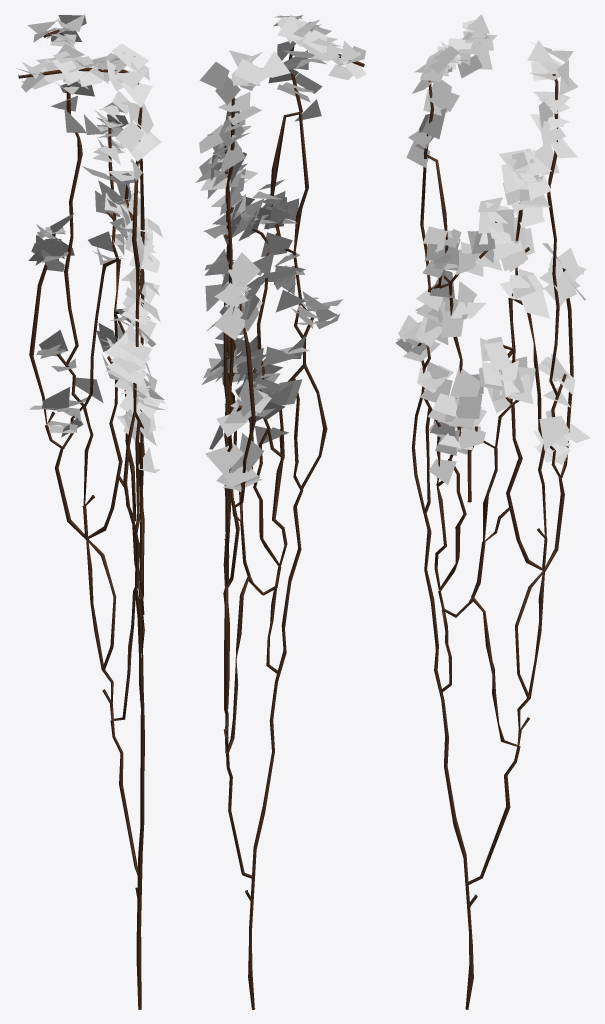
Rendered from Vines_1.fbx.
The picture shows the model from 3 angles, left to right: view 1: azimuth 30°, elevation 25°; view 2: azimuth 150°, elevation 25°; view 3: azimuth 270°, elevation 25°; orthographic projection. The views are drawn at different scales.
Parts seen in each view (by area): view 1: IvyLeaf, IVY_Curve; view 2: IvyLeaf, IVY_Curve; view 3: IvyLeaf, IVY_Curve.
Boxes of the visible parts, x1=… form: IvyLeaf: x1=16, y1=14, x2=165, y2=472; IVY_Curve: x1=18, y1=30, x2=144, y2=1009; IvyLeaf: x1=195, y1=14, x2=366, y2=491; IVY_Curve: x1=223, y1=46, x2=364, y2=1009; IvyLeaf: x1=395, y1=14, x2=590, y2=484; IVY_Curve: x1=412, y1=74, x2=573, y2=1009.
Size of the model in its own units: 192 by 1258 by 235.
